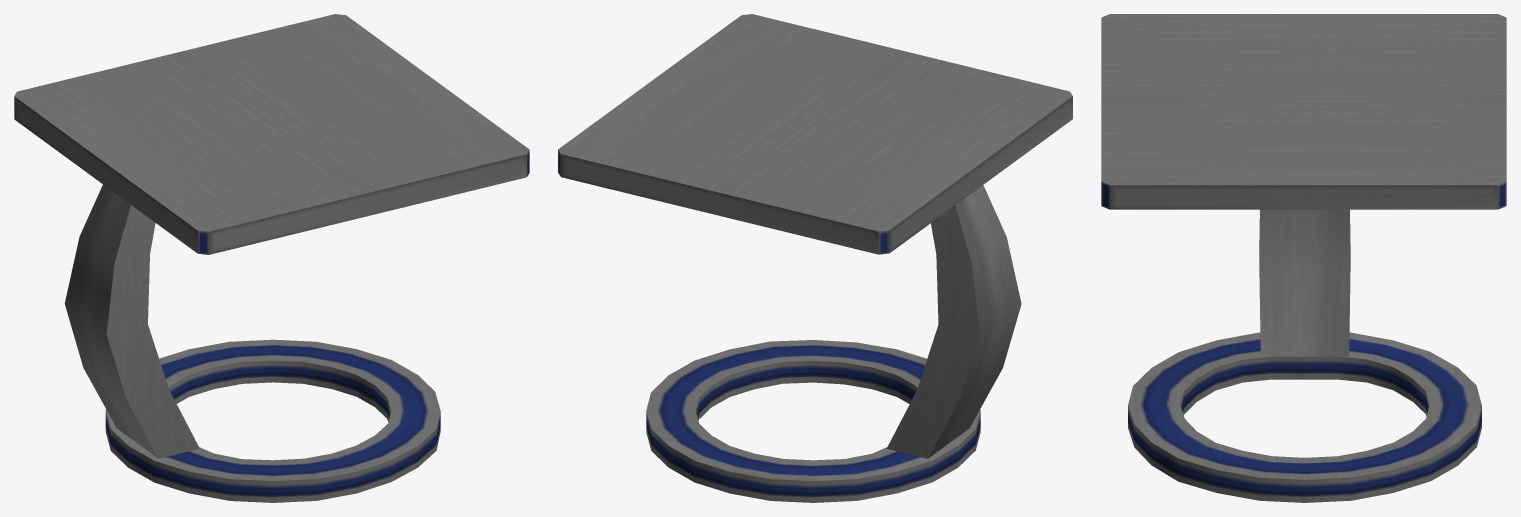
The model's file is Medical_Room_Bed-table.FBX.
3 renders of one model, left to right at view 1: azimuth 30°, elevation 25°; view 2: azimuth 150°, elevation 25°; view 3: azimuth 270°, elevation 25°, orthographic. The views are drawn at different scales.
Visible parts, largest first — view 1: Cylinder003; view 2: Cylinder003; view 3: Cylinder003.
Boxes of the visible parts, x1,y1,x2,y2 form: Cylinder003: (14,14,529,502); Cylinder003: (558,14,1072,502); Cylinder003: (1101,14,1506,502).
Bounding box in the file's own units: 75.26 × 63.36 × 71.
